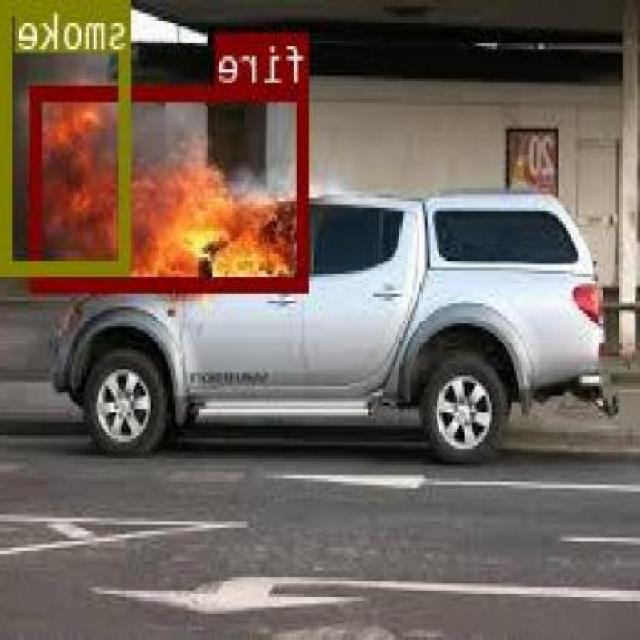Fire: (35, 85, 312, 288)
Smoke: (5, 0, 133, 271)
